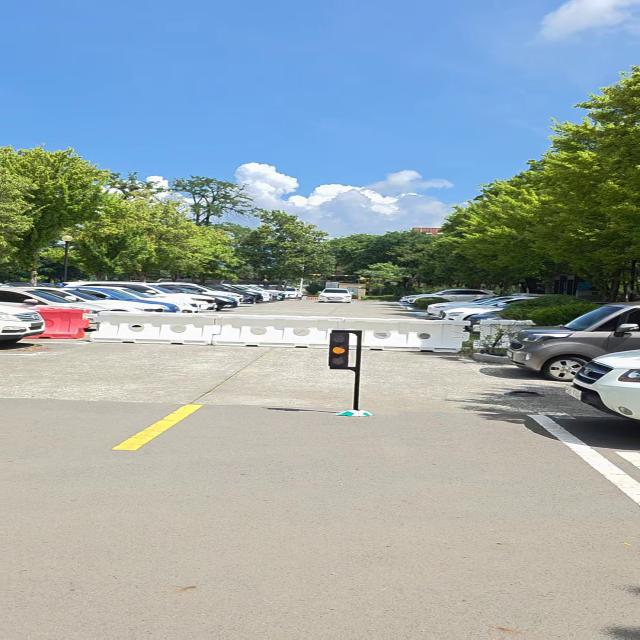yellow: (328, 332, 351, 370)
